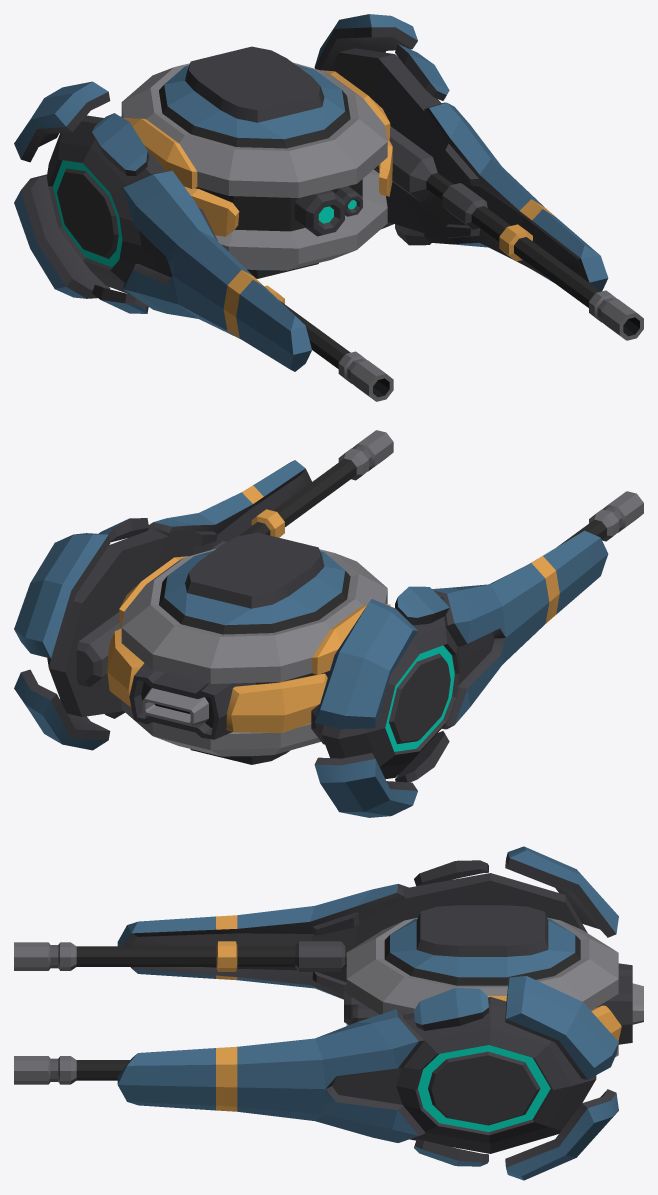
The model's file is SM_Veh_Drone_Attach_01.glb.
3 views of the same model, one above another, from view 1: azimuth 30°, elevation 25°; view 2: azimuth 150°, elevation 25°; view 3: azimuth 270°, elevation 25° (orthographic). The views are drawn at different scales.
Visible parts, largest first — view 1: SM_Veh_Drone_Attach_01; view 2: SM_Veh_Drone_Attach_01; view 3: SM_Veh_Drone_Attach_01.
Part boxes in pixels (x1,y1,x2,y2): SM_Veh_Drone_Attach_01: [14, 14, 643, 401]; SM_Veh_Drone_Attach_01: [14, 430, 643, 817]; SM_Veh_Drone_Attach_01: [14, 846, 643, 1180].
Bounding box in the file's own units: 2.3 × 1.31 × 3.73.
1 material, 1 textured.
